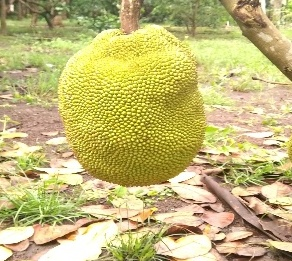Mit: (56, 28, 209, 187)
